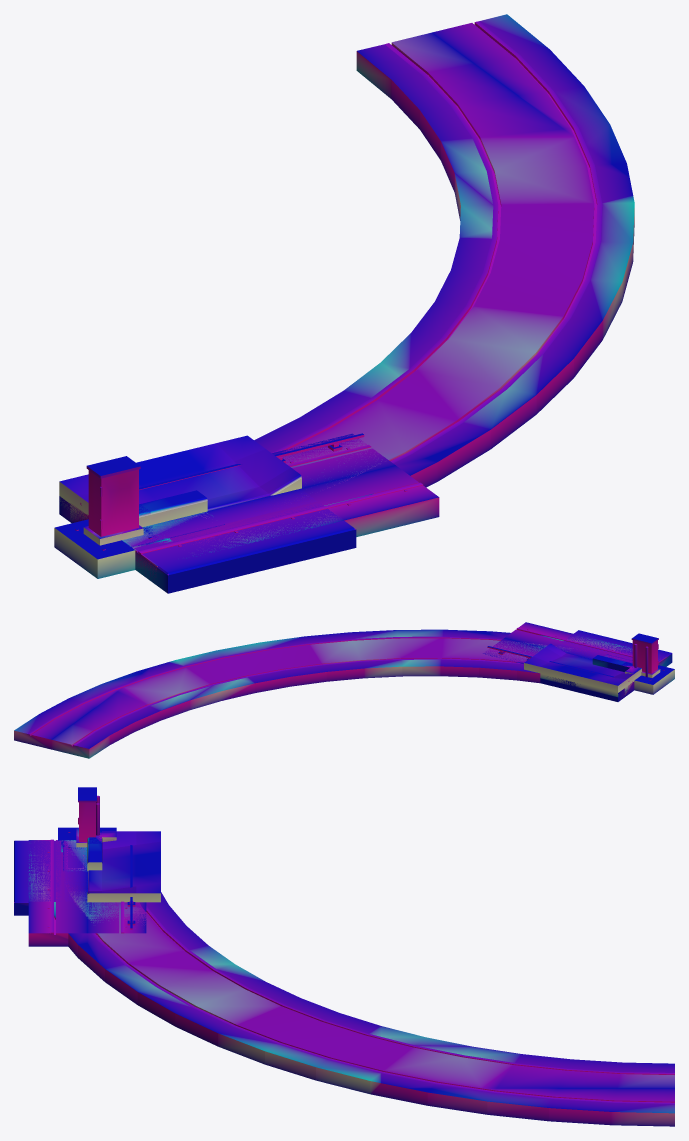
The model's file is street_kit.glb.
3 views of the same model, one above another, from view 1: azimuth 30°, elevation 25°; view 2: azimuth 150°, elevation 25°; view 3: azimuth 270°, elevation 25° (orthographic). The views are drawn at different scales.
Visible parts, largest first — view 1: tram_track_curve, causeway_band, kerb_drop, tram_track, tram_track_shimmed, junction_box, hatch, kerb_straight; view 2: tram_track_curve, kerb_drop, causeway_band, tram_track, tram_track_shimmed, junction_box, hatch, tram_conductor, kerb_heaved; view 3: tram_track_curve, kerb_drop, causeway_band, tram_track, tram_track_shimmed, junction_box.
Boxes of the visible parts, bbox=[...] form: tram_track_curve: bbox=[122, 14, 634, 546]; causeway_band: bbox=[59, 489, 356, 593]; kerb_drop: bbox=[59, 435, 301, 520]; tram_track: bbox=[70, 448, 439, 581]; tram_track_shimmed: bbox=[70, 433, 438, 565]; junction_box: bbox=[83, 456, 143, 545]; hatch: bbox=[54, 519, 171, 578]; kerb_straight: bbox=[139, 490, 207, 527]; tram_track_curve: bbox=[14, 629, 632, 758]; kerb_drop: bbox=[524, 643, 641, 697]; causeway_band: bbox=[540, 630, 672, 701]; tram_track: bbox=[493, 629, 666, 695]; tram_track_shimmed: bbox=[483, 622, 666, 682]; junction_box: bbox=[631, 633, 660, 677]; hatch: bbox=[634, 665, 674, 694]; tram_conductor: bbox=[487, 646, 629, 681]; kerb_heaved: bbox=[592, 658, 629, 671]; tram_track_curve: bbox=[54, 841, 674, 1126]; kerb_drop: bbox=[87, 831, 160, 902]; causeway_band: bbox=[14, 840, 87, 915]; tram_track: bbox=[28, 840, 118, 946]; tram_track_shimmed: bbox=[28, 839, 146, 941]; junction_box: bbox=[76, 787, 99, 847].
Bounding box in the file's own units: 13.8 × 1.34 × 13.5.
